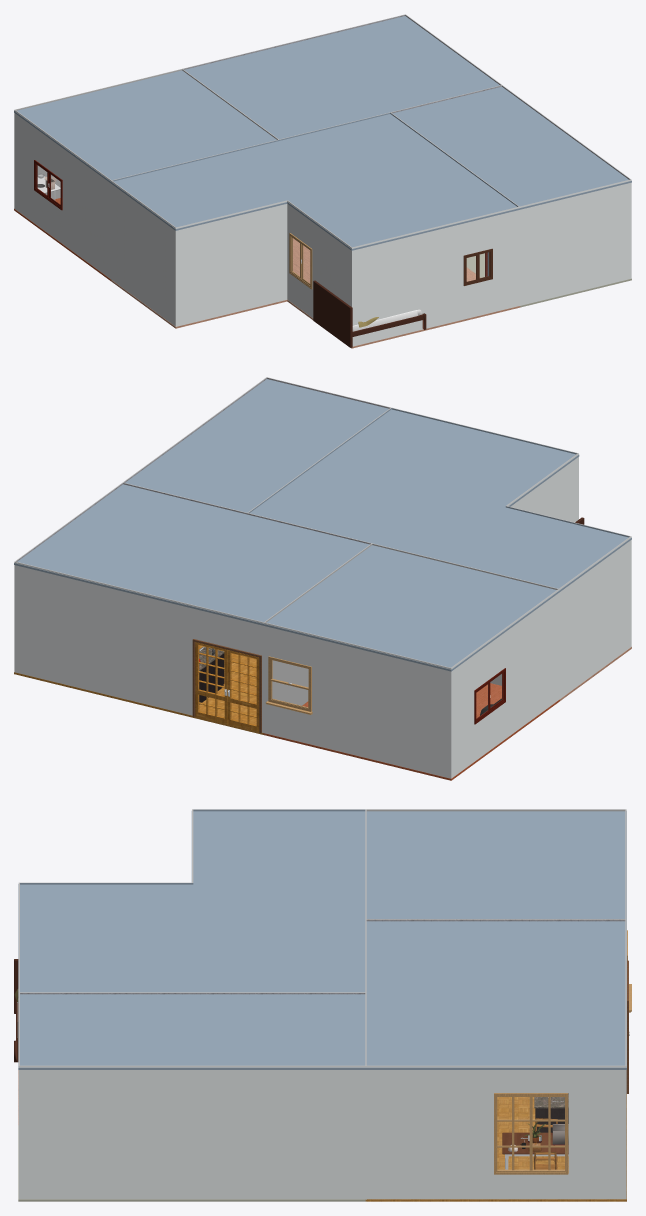
The model's file is ProcTHOR-Train-15.glb.
The picture shows the model from 3 angles, top to bottom: view 1: azimuth 30°, elevation 25°; view 2: azimuth 150°, elevation 25°; view 3: azimuth 270°, elevation 25°; orthographic projection. The views are drawn at different scales.
Parts seen in each view (by area): view 1: Ceiling#room|4|c, Ceiling#room|6|c, Ceiling#room|7|c, WallInside#wall|exterior|3.54|12.40|8.86|12.40, Ceiling#room|5|c, WallInside#wall|exterior|0.00|12.40|3.54|12.40, WallInside#wall|exterior|8.86|8.86|12.40|8.86, WallInside#wall|exterior|12.40|0.00|12.40|5.32, WallInside#wall|exterior|12.40|5.32|12.40|8.86, WallInside#wall|exterior|8.86|8.86|8.86|12.40, Bed_30, Floor#room|4|f (+5 smaller); view 2: Ceiling#room|4|c, Ceiling#room|6|c, WallInside#wall|exterior|0.00|0.00|7.09|0.00, Ceiling#room|7|c, WallInside#wall|exterior|7.09|0.00|12.40|0.00, Ceiling#room|5|c, WallInside#wall|exterior|12.40|0.00|12.40|5.32, WallInside#wall|exterior|12.40|5.32|12.40|8.86, WallInside#wall|exterior|8.86|8.86|8.86|12.40, Floor#room|6|f, Doorway_Door_5b, Doorway_Door_5a (+6 smaller); view 3: Ceiling#room|4|c, WallInside#wall|exterior|0.00|5.32|0.00|12.40, Ceiling#room|6|c, WallInside#wall|exterior|0.00|0.00|0.00|5.32, Ceiling#room|7|c, Ceiling#room|5|c, Floor#room|6|f, Window_Fixed_60x72, Floor#room|5|f, WallInside#wall|5|3.54|5.32|3.54|12.40, Dining_Table_208_1, Countertop_C_8x6 (+2 smaller).
Boxes of the visible parts, bbox=[...] form: Ceiling#room|4|c: bbox=[111, 114, 520, 250]; Ceiling#room|6|c: bbox=[182, 16, 499, 140]; Ceiling#room|7|c: bbox=[14, 70, 276, 183]; WallInside#wall|exterior|3.54|12.40|8.86|12.40: bbox=[352, 207, 519, 346]; Ceiling#room|5|c: bbox=[392, 86, 631, 209]; WallInside#wall|exterior|0.00|12.40|3.54|12.40: bbox=[519, 179, 631, 305]; WallInside#wall|exterior|8.86|8.86|12.40|8.86: bbox=[176, 200, 287, 326]; WallInside#wall|exterior|12.40|0.00|12.40|5.32: bbox=[14, 110, 110, 278]; WallInside#wall|exterior|12.40|5.32|12.40|8.86: bbox=[111, 180, 175, 326]; WallInside#wall|exterior|8.86|8.86|8.86|12.40: bbox=[287, 200, 351, 318]; Bed_30: bbox=[313, 280, 426, 347]; Floor#room|4|f: bbox=[111, 238, 520, 348]; Ceiling#room|4|c: bbox=[250, 409, 631, 591]; Ceiling#room|6|c: bbox=[14, 484, 371, 625]; WallInside#wall|exterior|0.00|0.00|7.09|0.00: bbox=[14, 561, 264, 732]; Ceiling#room|7|c: bbox=[263, 545, 559, 671]; WallInside#wall|exterior|7.09|0.00|12.40|0.00: bbox=[263, 622, 451, 778]; Ceiling#room|5|c: bbox=[123, 379, 388, 512]; WallInside#wall|exterior|12.40|0.00|12.40|5.32: bbox=[451, 589, 559, 778]; WallInside#wall|exterior|12.40|5.32|12.40|8.86: bbox=[559, 536, 631, 698]; WallInside#wall|exterior|8.86|8.86|8.86|12.40: bbox=[506, 453, 578, 522]; Floor#room|6|f: bbox=[14, 645, 303, 735]; Doorway_Door_5b: bbox=[195, 642, 227, 724]; Doorway_Door_5a: bbox=[227, 650, 259, 731]; Ceiling#room|4|c: bbox=[18, 811, 366, 994]; WallInside#wall|exterior|0.00|5.32|0.00|12.40: bbox=[19, 1066, 366, 1199]; Ceiling#room|6|c: bbox=[365, 921, 626, 1069]; WallInside#wall|exterior|0.00|0.00|0.00|5.32: bbox=[365, 1066, 626, 1199]; Ceiling#room|7|c: bbox=[365, 811, 626, 920]; Ceiling#room|5|c: bbox=[18, 994, 366, 1069]; Floor#room|6|f: bbox=[365, 1094, 626, 1201]; Window_Fixed_60x72: bbox=[494, 1093, 568, 1174]; Floor#room|5|f: bbox=[18, 1125, 366, 1201]; WallInside#wall|5|3.54|5.32|3.54|12.40: bbox=[20, 992, 365, 994]; Dining_Table_208_1: bbox=[502, 1132, 568, 1169]; Countertop_C_8x6: bbox=[534, 1093, 568, 1132].
Size of what is drawn, in the model's own units: 12.48 by 3.05 by 12.63.
309 materials, 130 textured.
